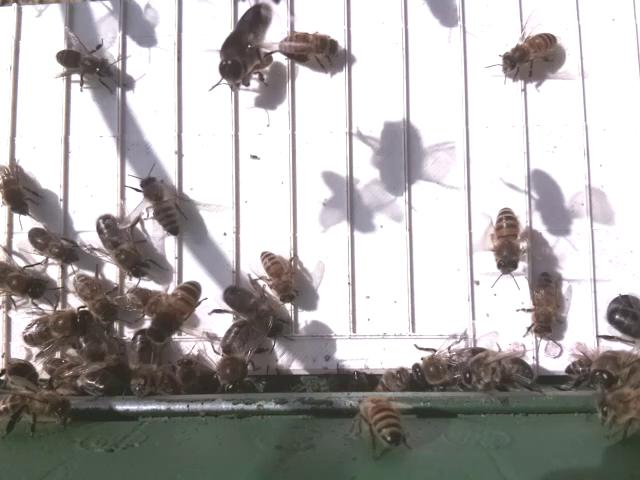Drone: (217, 0, 276, 84), (94, 208, 150, 279), (218, 279, 286, 335), (17, 307, 96, 352)
Worker: (144, 279, 202, 347), (137, 172, 182, 240), (500, 30, 559, 73), (258, 246, 300, 303), (492, 206, 524, 278), (27, 225, 81, 267), (54, 46, 115, 80), (530, 267, 558, 341), (276, 30, 344, 60)
